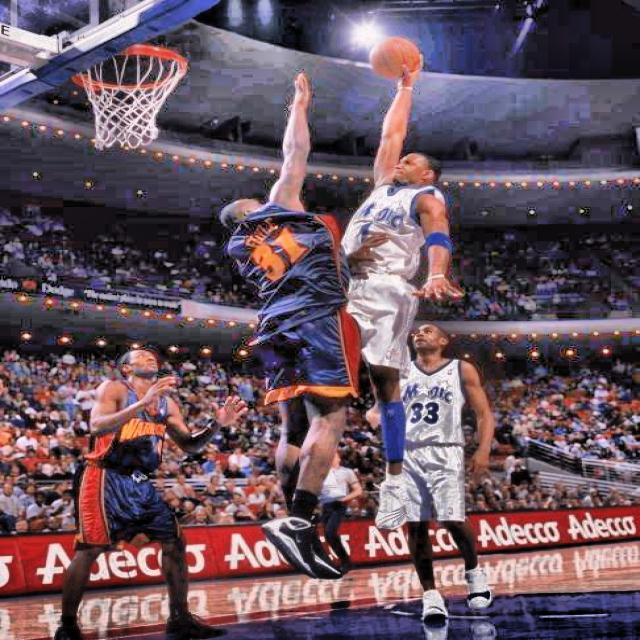board: (369, 38, 418, 78)
rim: (70, 45, 187, 151)
